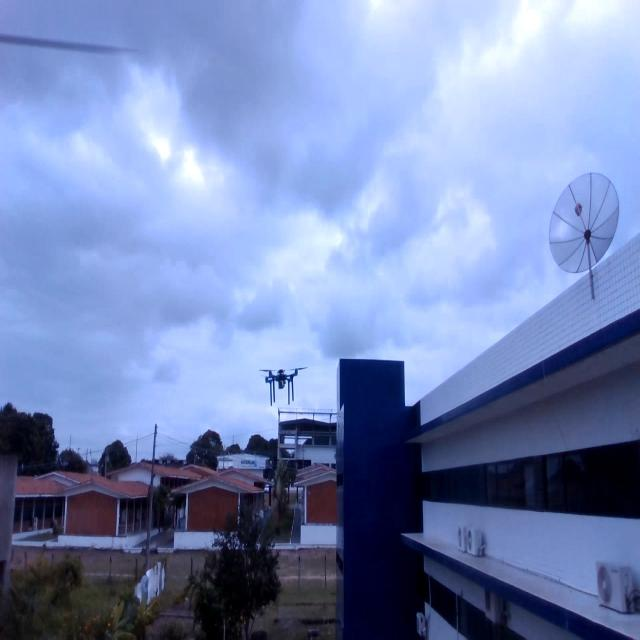-uav-: (255, 354, 312, 421)
